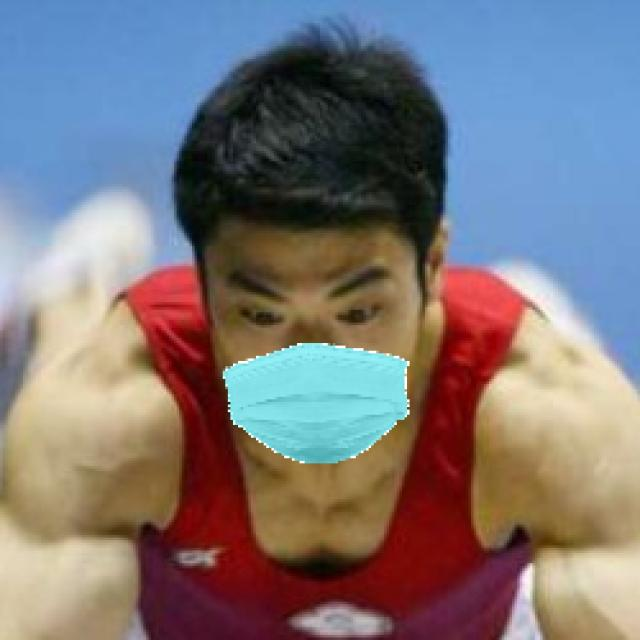mask: (193, 337, 422, 484)
